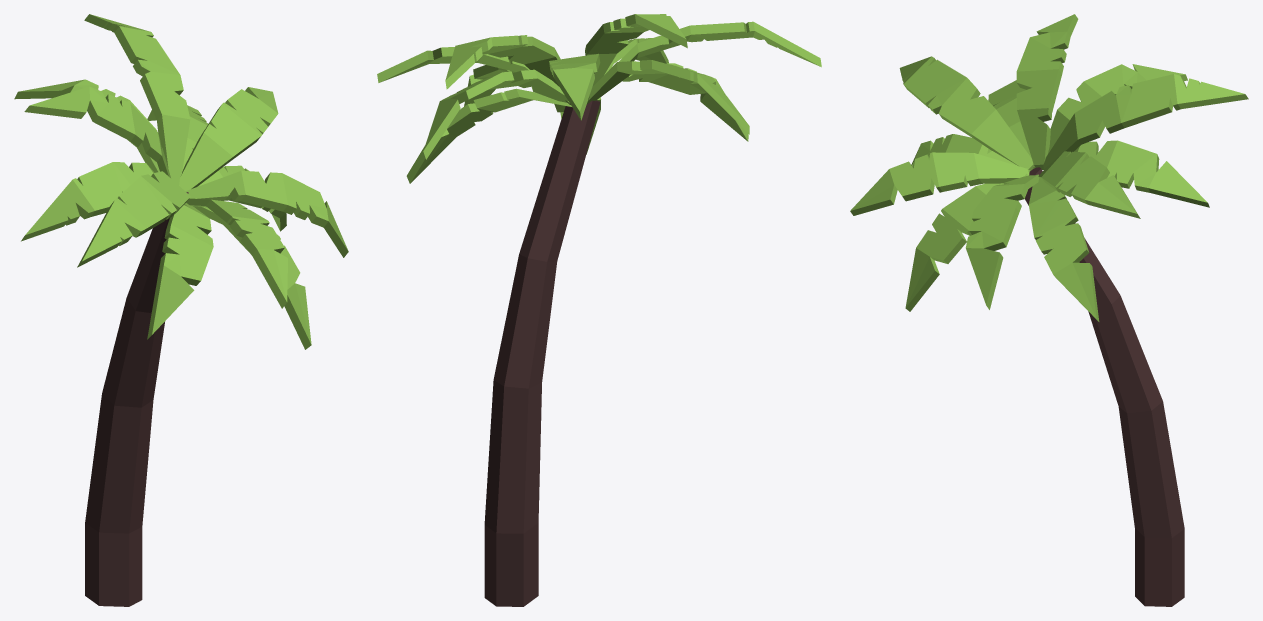
Rendered from palm_tree_1.glb.
3 views of the same model, side by side, from view 1: azimuth 30°, elevation 25°; view 2: azimuth 150°, elevation 25°; view 3: azimuth 270°, elevation 25° (orthographic). The views are drawn at different scales.
Visible parts, largest first — view 1: treetype3_1.355; view 2: treetype3_1.355; view 3: treetype3_1.355.
Boxes of the visible parts, x1,y1,x2,y2 form: treetype3_1.355: (14, 14, 348, 606); treetype3_1.355: (377, 14, 821, 606); treetype3_1.355: (850, 14, 1248, 606).
Bounding box in the file's own units: 4.68 × 7.9 × 5.37.
Materials: 1 (1 with a texture image).
